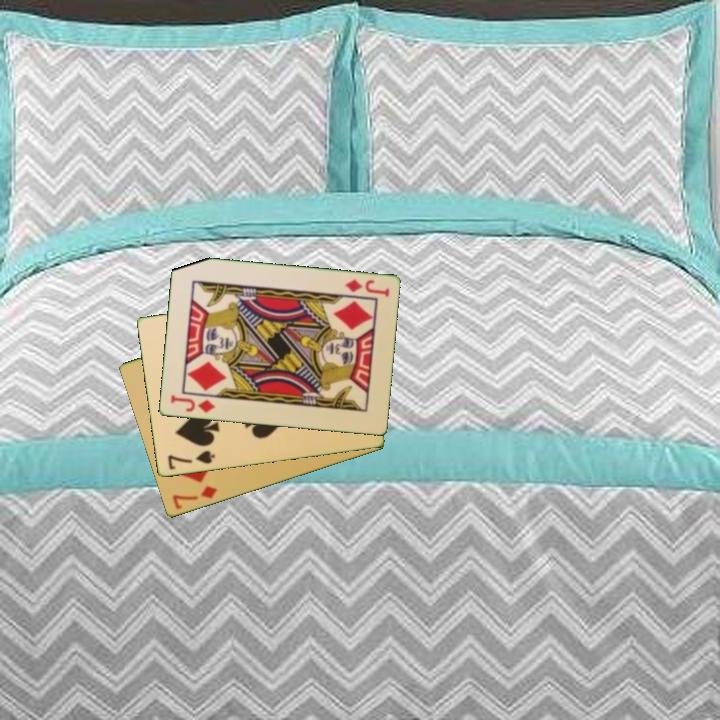7d: (169, 482, 220, 513)
7s: (164, 447, 218, 473)
Jd: (341, 276, 392, 300), (167, 392, 217, 416)
